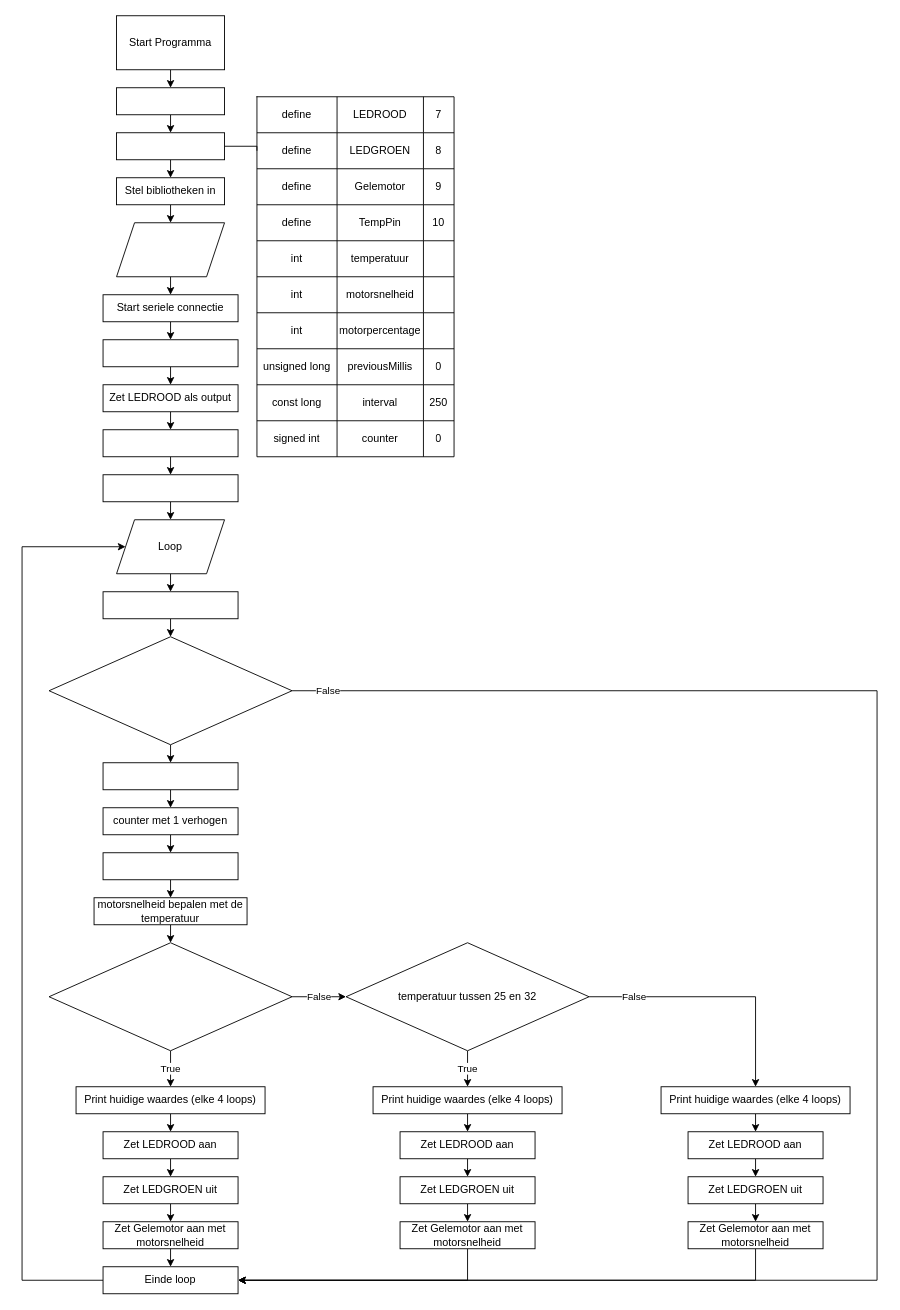
Image size: 900x1310. Some labels were removed from this diagram. The box of each missing label's shape, as (x1, y1, x2, y2) in pixels:
Huidige millis opslaan: (102, 762, 238, 790)
Importeer benodigde bibliotheken: (116, 87, 225, 115)
Setup: (116, 222, 225, 277)
Start sensoren: (102, 339, 238, 367)
temperatuur lager dan 25: (48, 942, 292, 1051)
temperatuur opvragen: (102, 852, 238, 880)
Tijd sinds vorige loop groter dan het interval: (48, 636, 292, 745)
Variabelen: (116, 132, 225, 160)
Verkrijg het huidge aantal milliseconden: (102, 591, 238, 619)
Zet Gelemotor als output: (102, 474, 238, 502)
Zet LEDGROEN als output: (102, 429, 238, 457)
